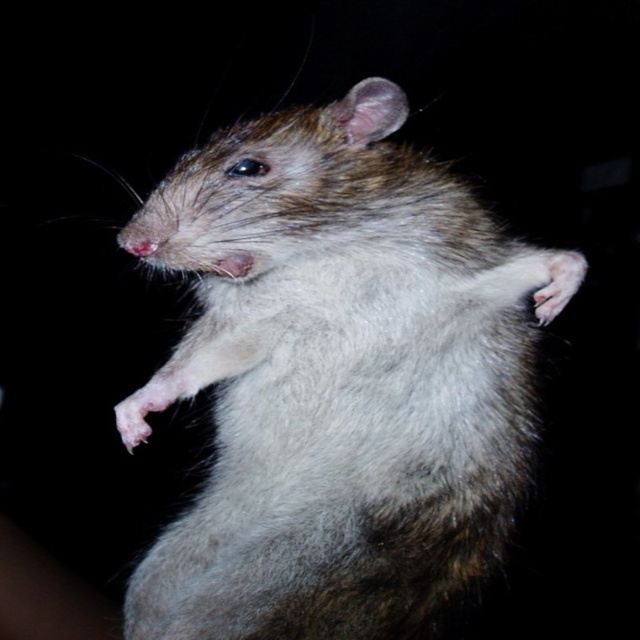Mouse: (37, 14, 589, 640)
